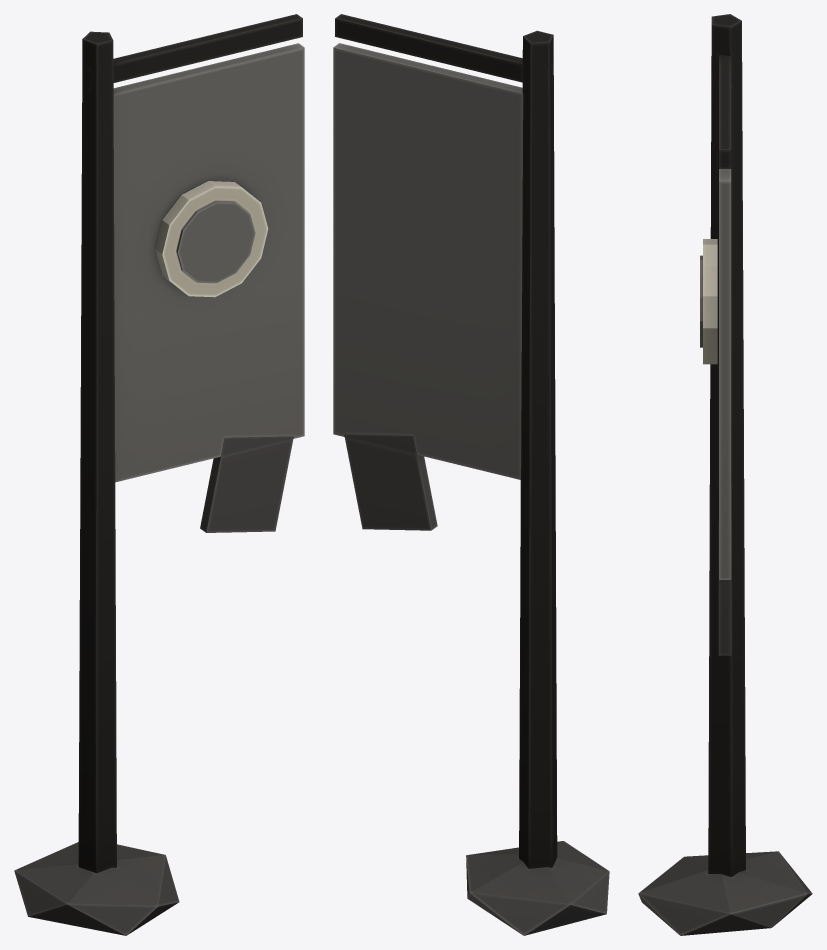
The model's file is rock_banner.glb.
The picture shows the model from 3 angles, left to right: view 1: azimuth 30°, elevation 25°; view 2: azimuth 150°, elevation 25°; view 3: azimuth 270°, elevation 25°; orthographic projection. The views are drawn at different scales.
Parts seen in each view (by area): view 1: rock_banner; view 2: rock_banner; view 3: rock_banner.
Part boxes in pixels (left/top/right/bottom): rock_banner: left=14, top=14, right=304, bottom=935; rock_banner: left=333, top=14, right=609, bottom=935; rock_banner: left=638, top=14, right=812, bottom=935.
Size of the model in its own units: 0.7714 by 2.37 by 0.4168.
1 material, 1 textured.
